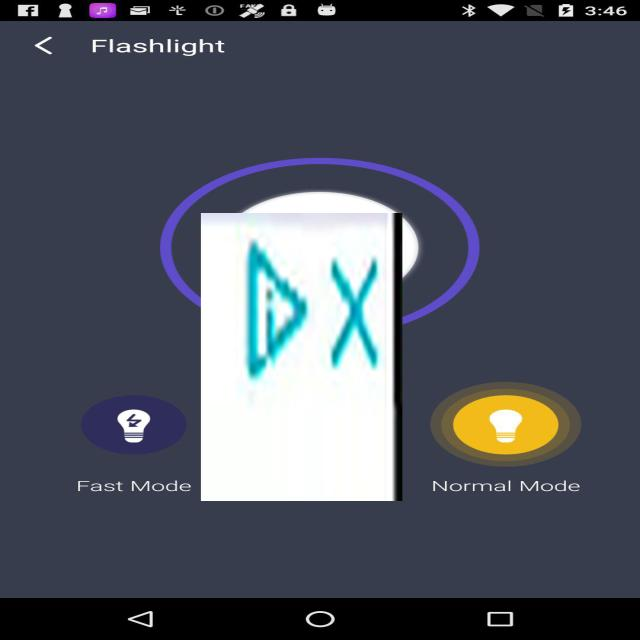sneaking: (201, 213, 402, 501)
